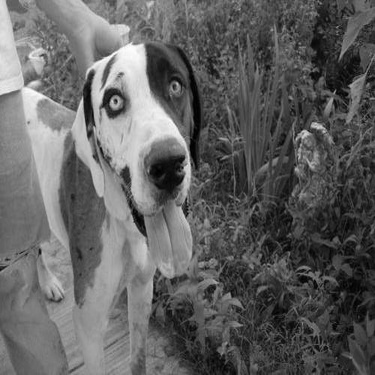dog: (8, 36, 210, 373)
